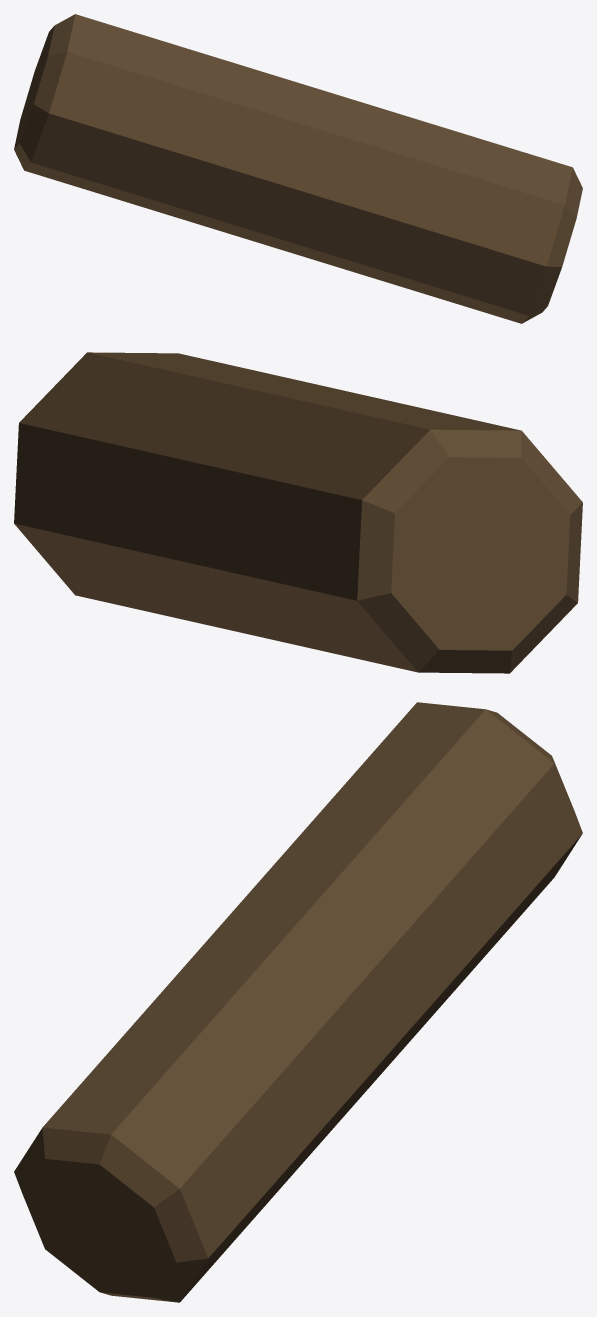
The model's file is Fireplace_Traditional_Log4.FBX.
3 views of the same model, one above another, from view 1: azimuth 30°, elevation 25°; view 2: azimuth 150°, elevation 25°; view 3: azimuth 270°, elevation 25° (orthographic). The views are drawn at different scales.
Parts seen in each view (by area): view 1: Fireplpace_Traditional_Log4; view 2: Fireplpace_Traditional_Log4; view 3: Fireplpace_Traditional_Log4.
Boxes of the visible parts, <box> form: Fireplpace_Traditional_Log4: <box>14,14,582,323</box>; Fireplpace_Traditional_Log4: <box>14,352,582,673</box>; Fireplpace_Traditional_Log4: <box>14,702,582,1302</box>.
Size of the model in its own units: 22.01 by 13.23 by 17.79.
1 material, 1 textured.
